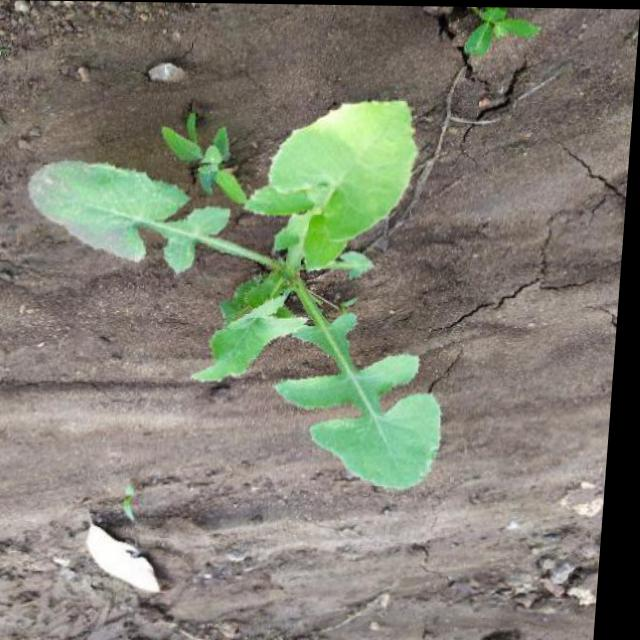weed: (3, 80, 479, 518)
